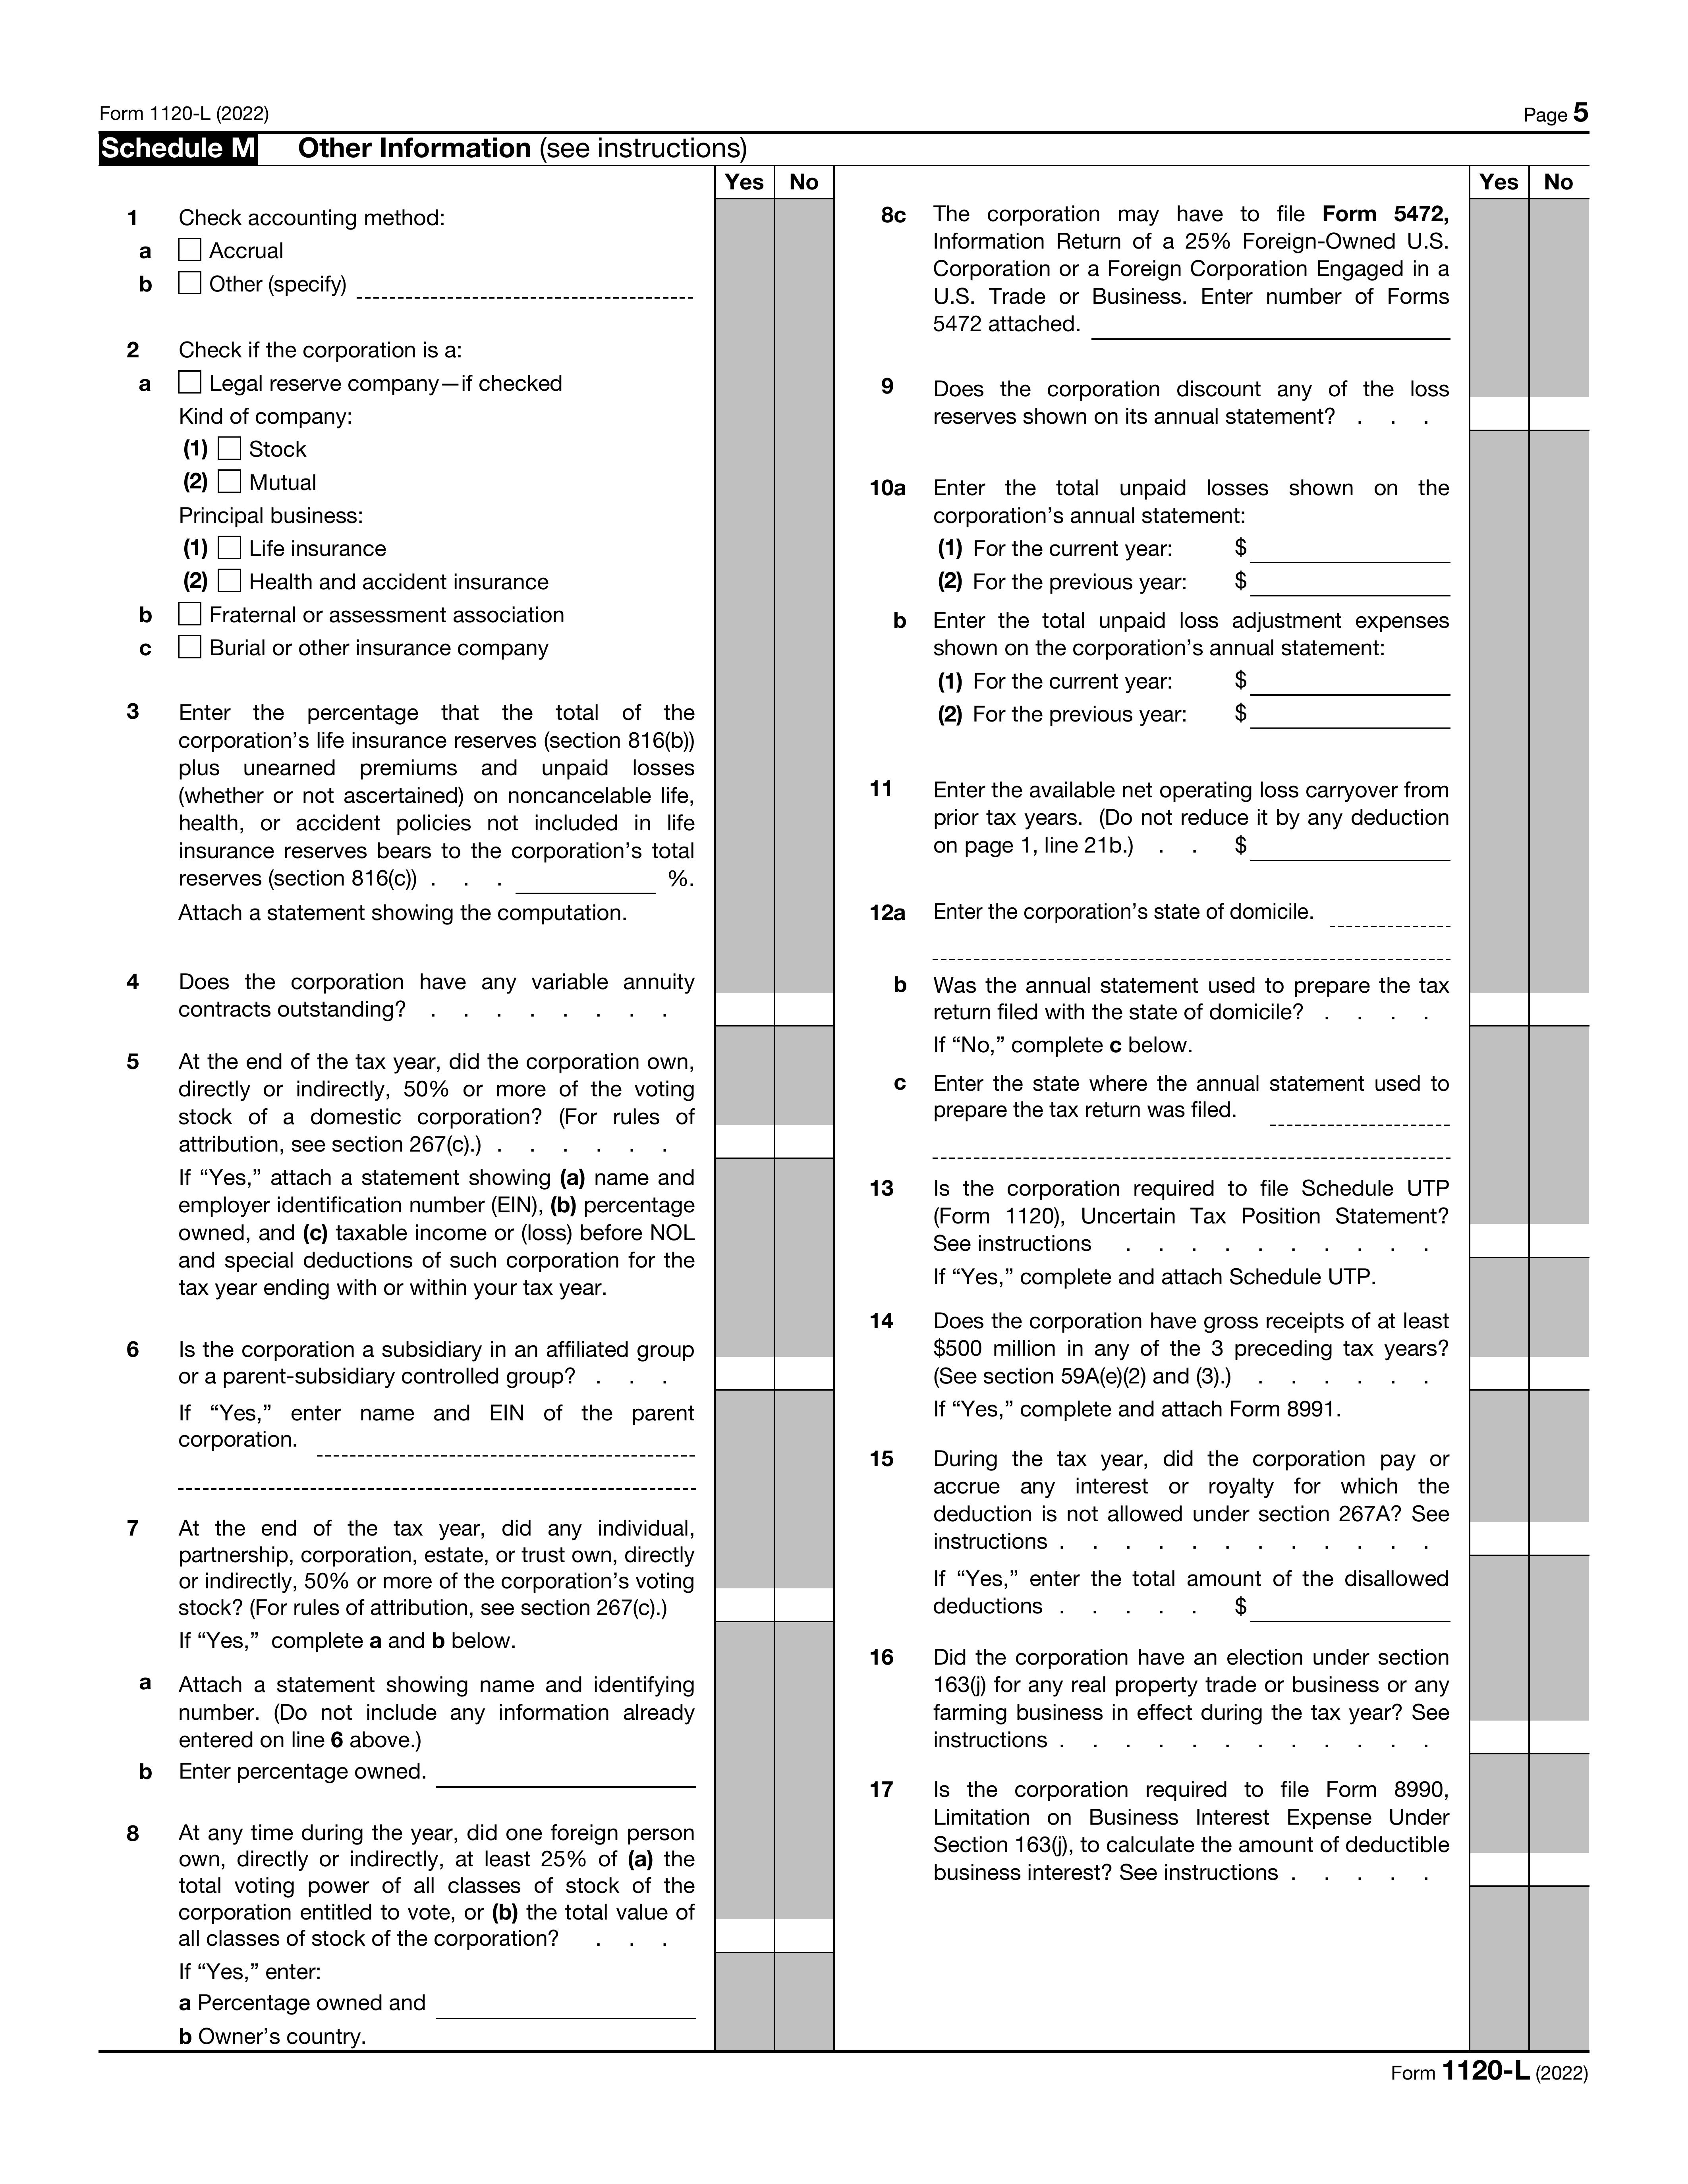table: (855, 160, 1599, 2062), (98, 165, 846, 2056)
